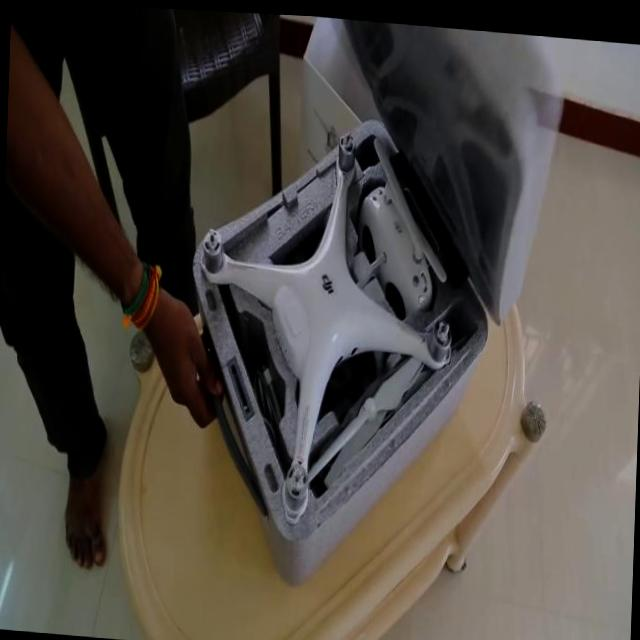drone: (184, 115, 465, 540)
